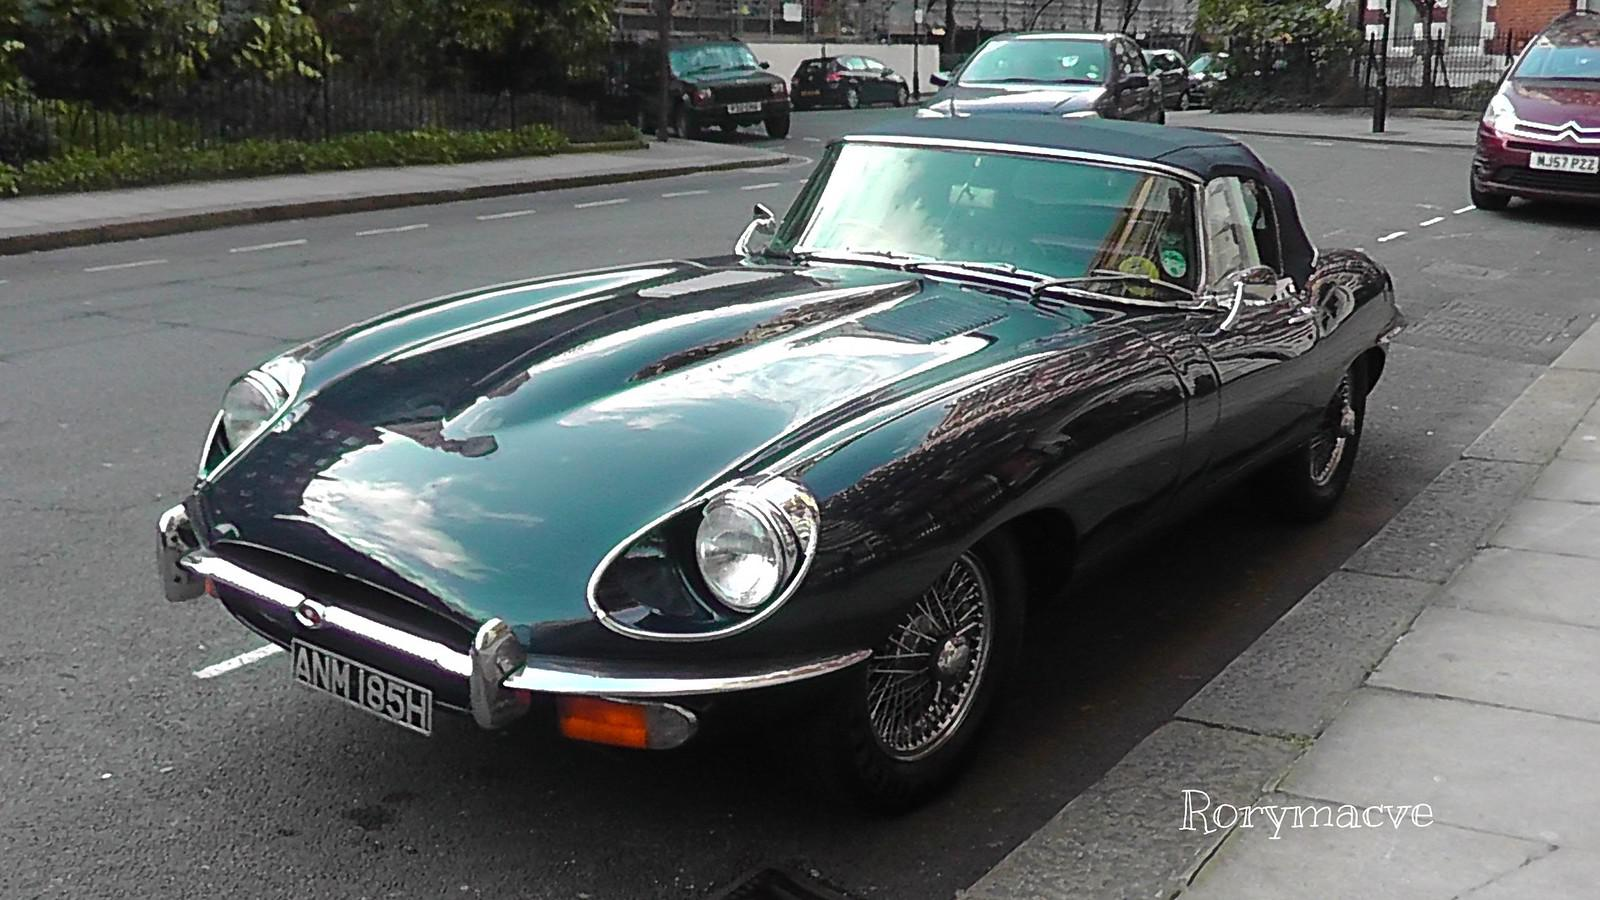doorouter-dent: (1191, 227, 1345, 485)
